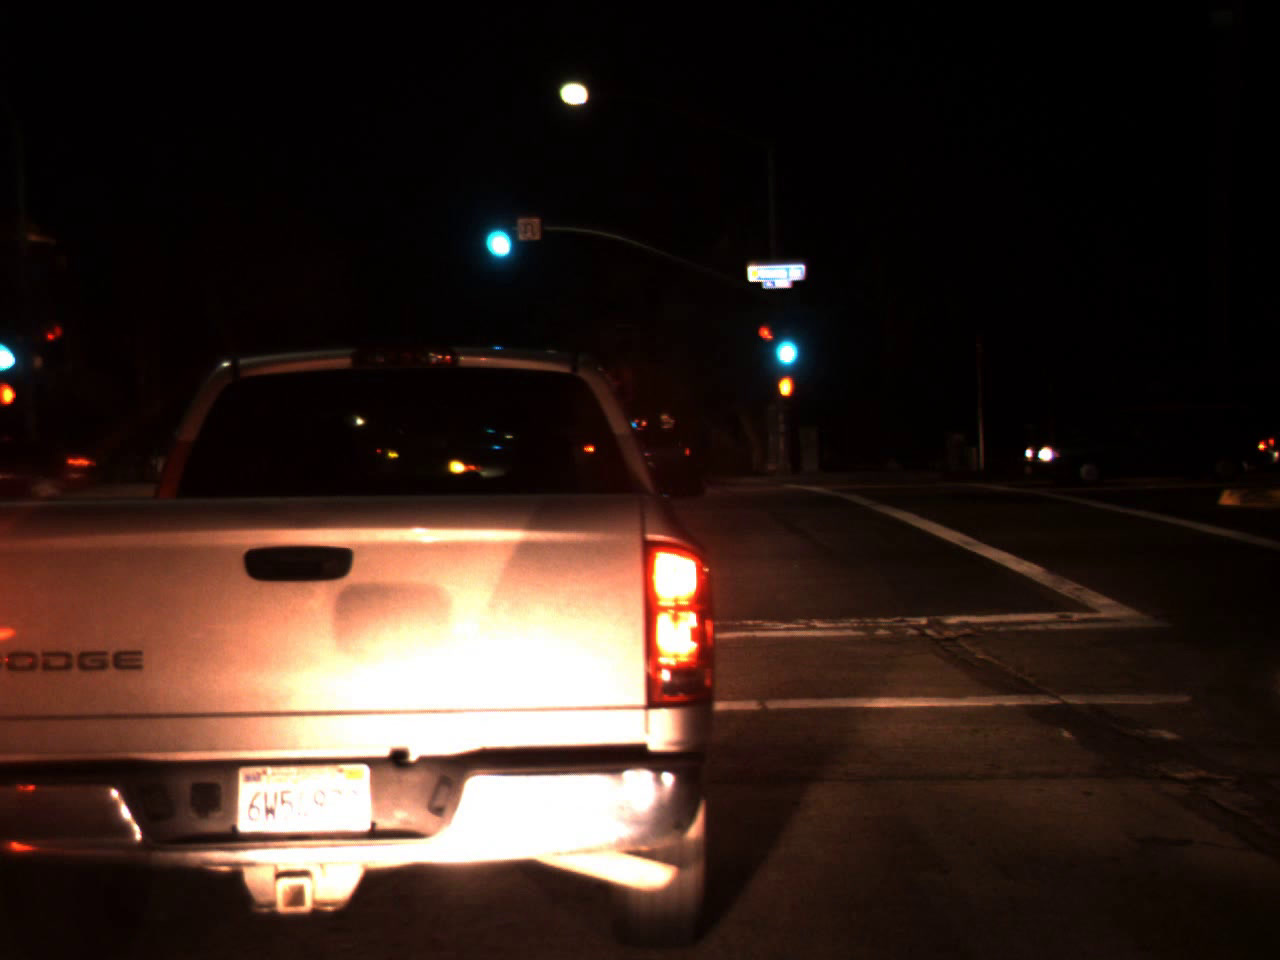go: (475, 193, 516, 268), (767, 309, 803, 375), (0, 322, 22, 373)
